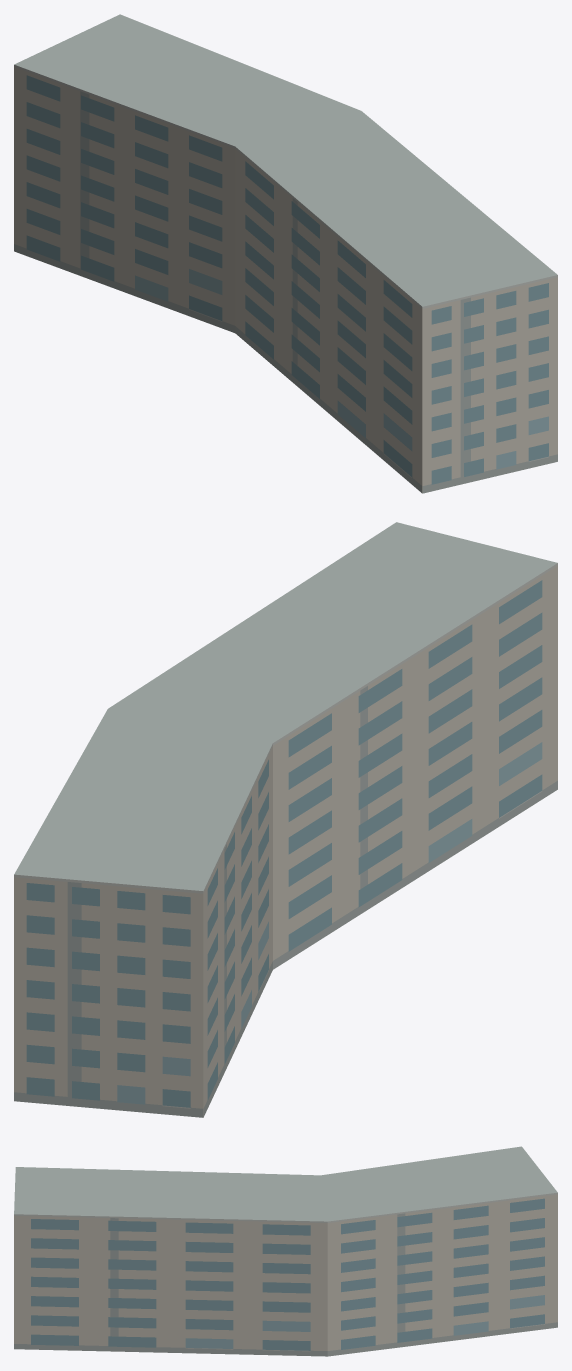
File: survey-upis-33007863.glb
3 views of the same model, one above another, from view 1: azimuth 30°, elevation 25°; view 2: azimuth 150°, elevation 25°; view 3: azimuth 270°, elevation 25° (orthographic). The views are drawn at different scales.
Visible parts, largest first — view 1: survey-upis-33007863.tmp; view 2: survey-upis-33007863.tmp; view 3: survey-upis-33007863.tmp.
Part boxes in pixels (left/top/right/bottom): survey-upis-33007863.tmp: left=14, top=14, right=557, bottom=493; survey-upis-33007863.tmp: left=14, top=522, right=557, bottom=1117; survey-upis-33007863.tmp: left=14, top=1146, right=557, bottom=1356.
Bounding box in the file's own units: 25.5 × 21.35 × 78.
